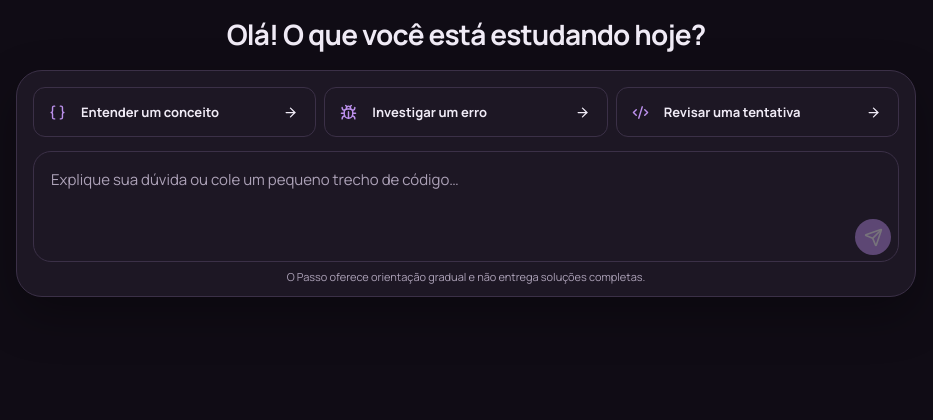
Test: ChatPage progressive layout › clears the composer and offers stop while the tutor is thinking
The image size is (933, 420).
Type "Minha dúvida" into the text box named "Sua mensagem para o tutor" at (466, 181), box left=34, top=152, right=898, bottom=210
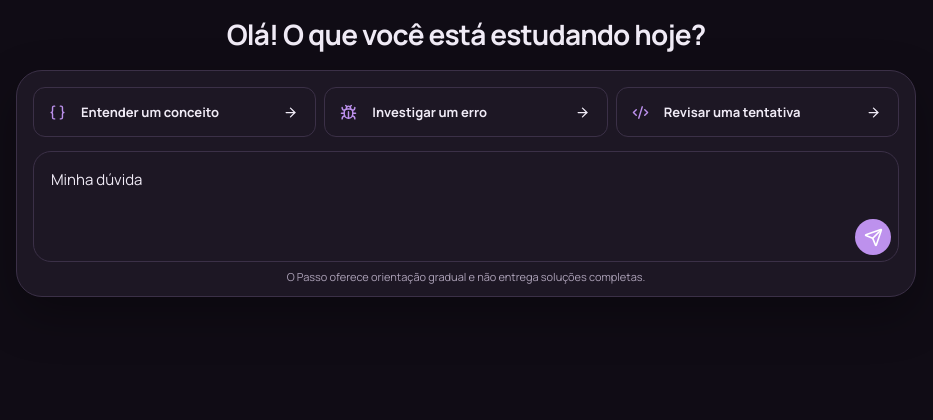
Click the button named "Enviar mensagem" at (873, 237), box left=855, top=219, right=891, bottom=255
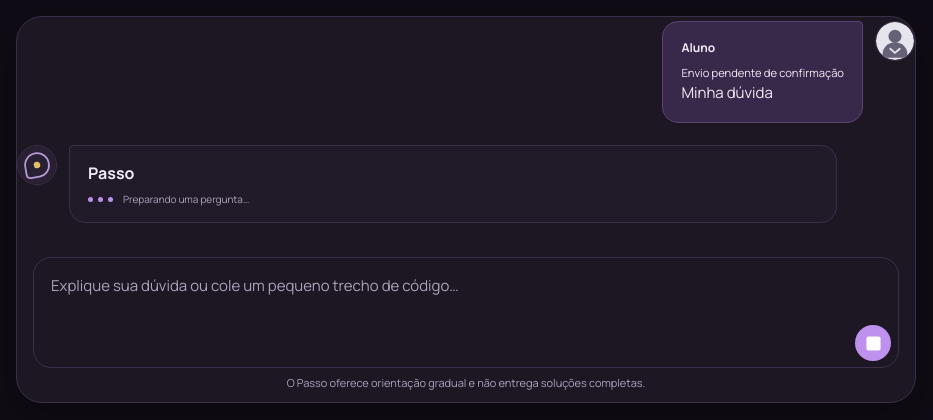
Now the text box named "Sua mensagem para o tutor" is empty, box left=34, top=258, right=898, bottom=316
Now the text "Aluno" is shown, box left=681, top=38, right=715, bottom=57
Now the text "Passo" is shown, box left=88, top=162, right=134, bottom=184
